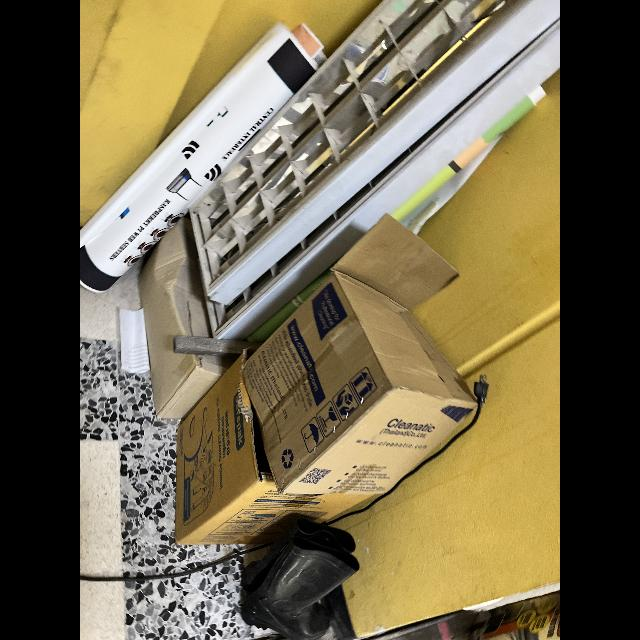cardboard_box: (245, 213, 481, 492), (166, 370, 374, 532), (138, 216, 234, 427)
